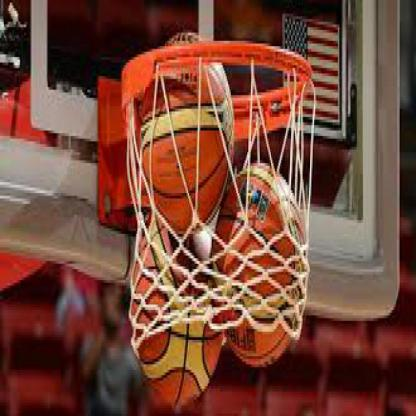basketball: (135, 30, 234, 228), (124, 215, 226, 405), (214, 169, 308, 364)
rim: (116, 38, 311, 136)
